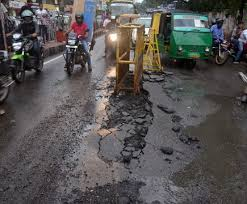roadCrash: (97, 94, 162, 157)
